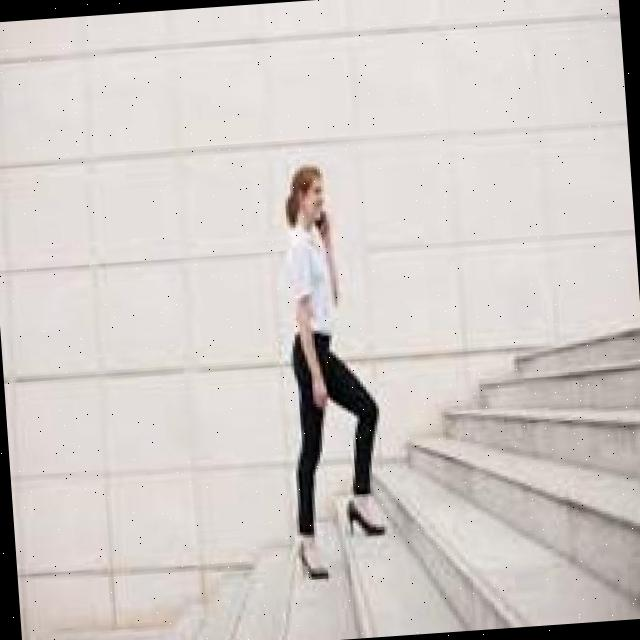stairs: (340, 316, 640, 635)
